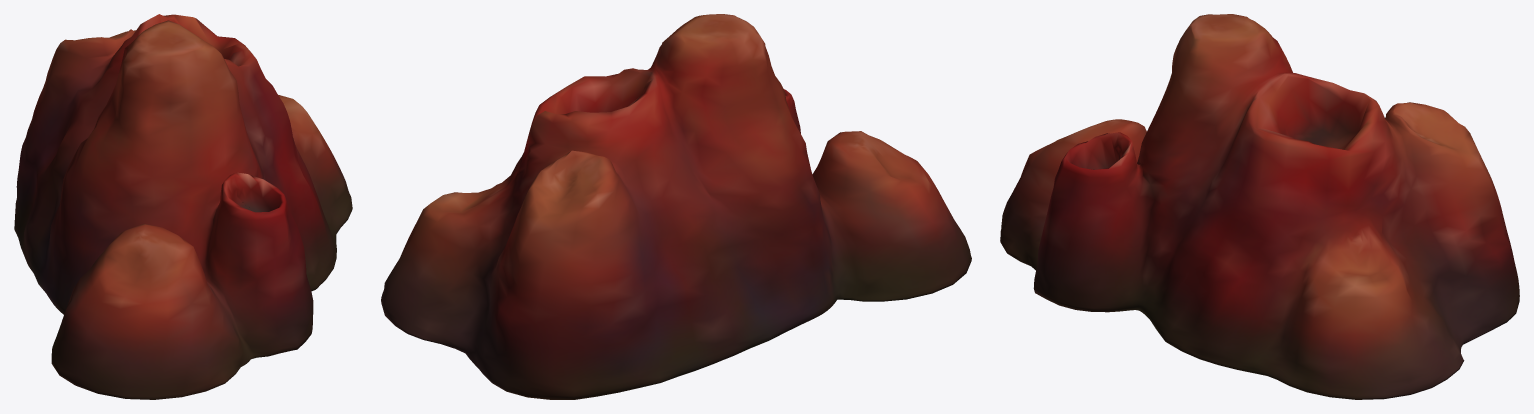
The model's file is spike_LP.fbx.
3 views of the same model, side by side, from view 1: azimuth 30°, elevation 25°; view 2: azimuth 150°, elevation 25°; view 3: azimuth 270°, elevation 25° (orthographic). The views are drawn at different scales.
Visible parts, largest first — view 1: spike1; view 2: spike1; view 3: spike1.
Boxes of the visible parts, x1=… form: spike1: x1=14, y1=14, x2=352, y2=399; spike1: x1=381, y1=14, x2=971, y2=399; spike1: x1=1000, y1=14, x2=1519, y2=399.
Bounding box in the file's own units: 3.74 × 2.28 × 4.08.
